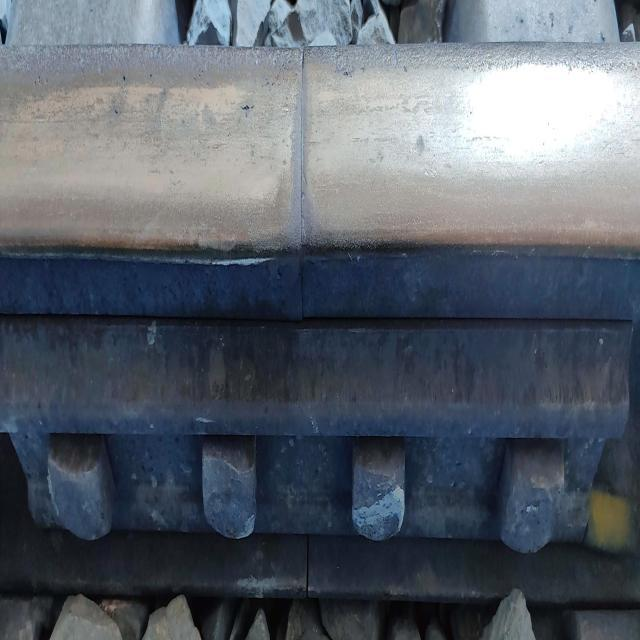head_checks_low: (240, 99, 254, 118)
